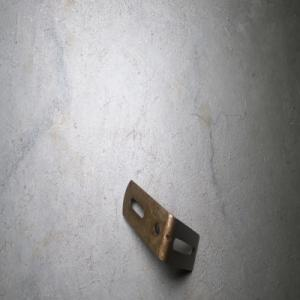MetalPart: (121, 178, 200, 272)
